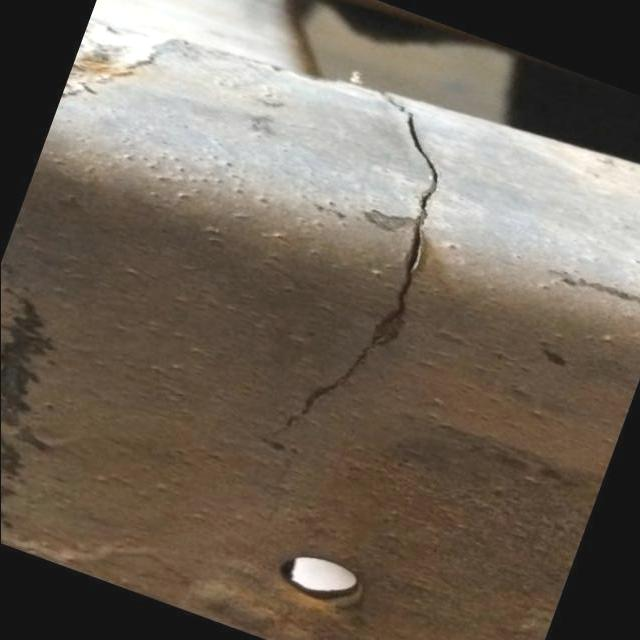defect: (265, 92, 443, 440), (60, 48, 164, 103)
